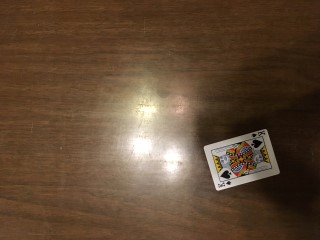KingOfSpades: (203, 129, 280, 191)
